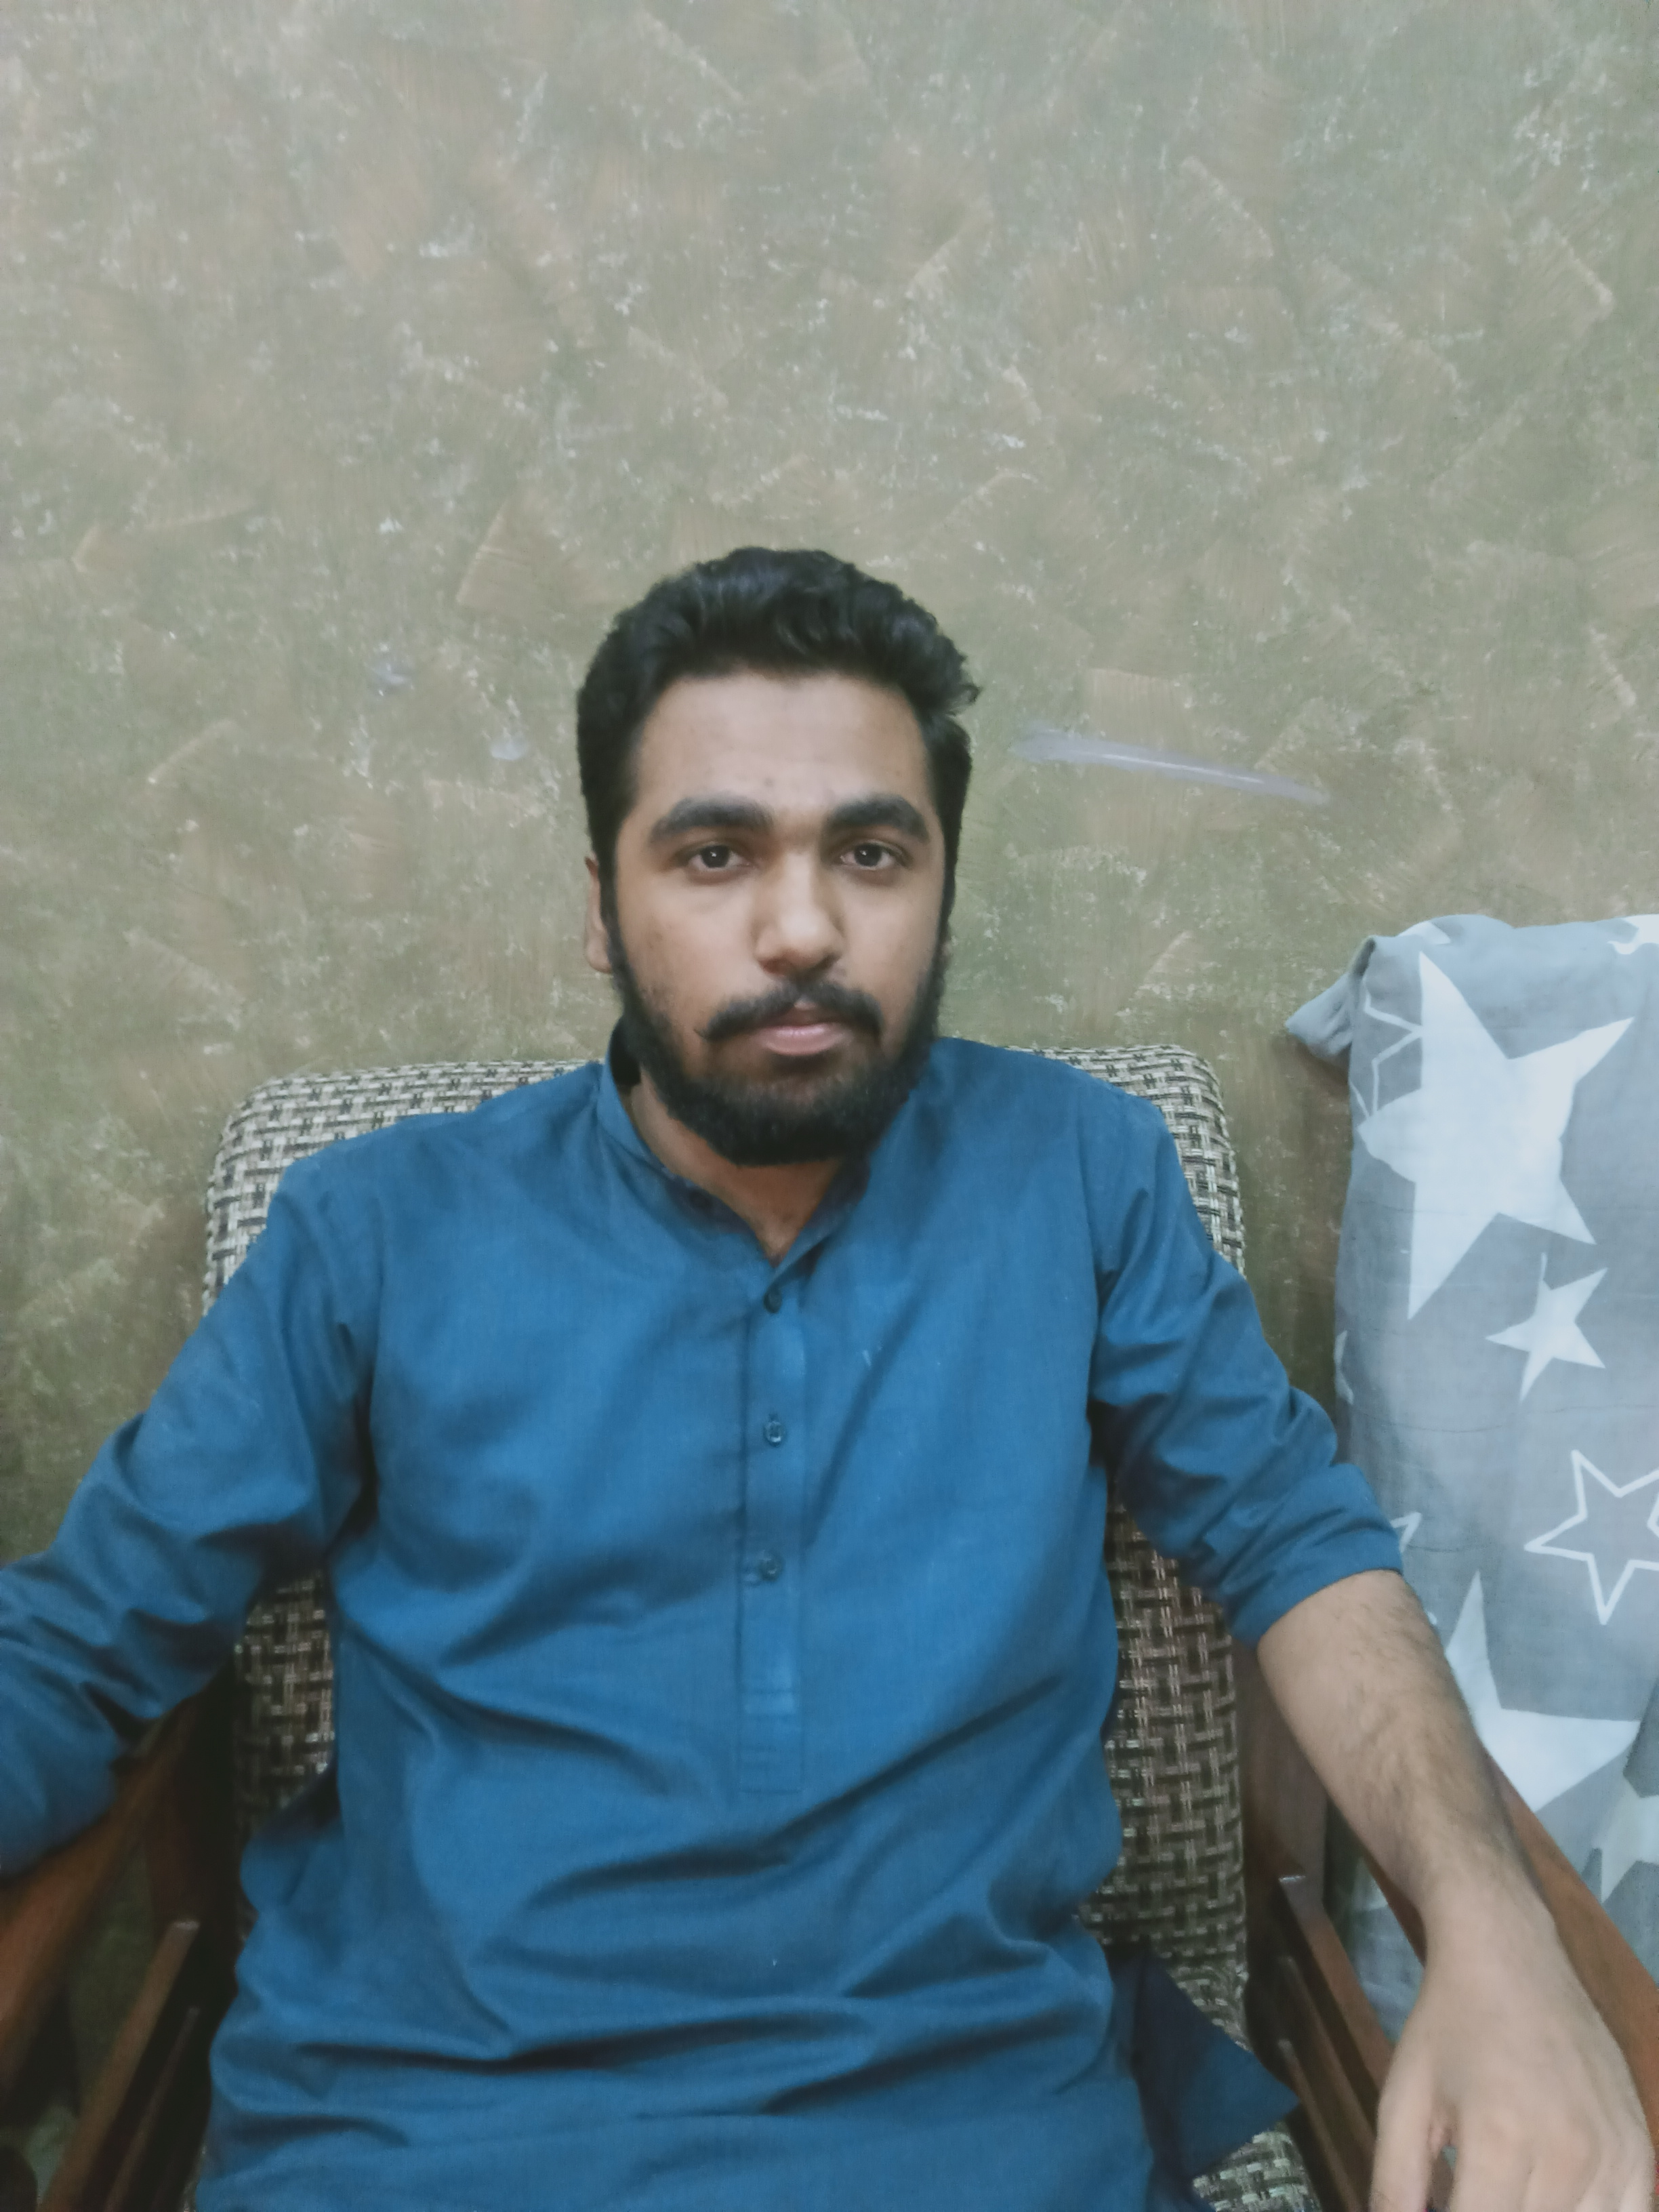NoMask: (630, 771, 945, 1184)
